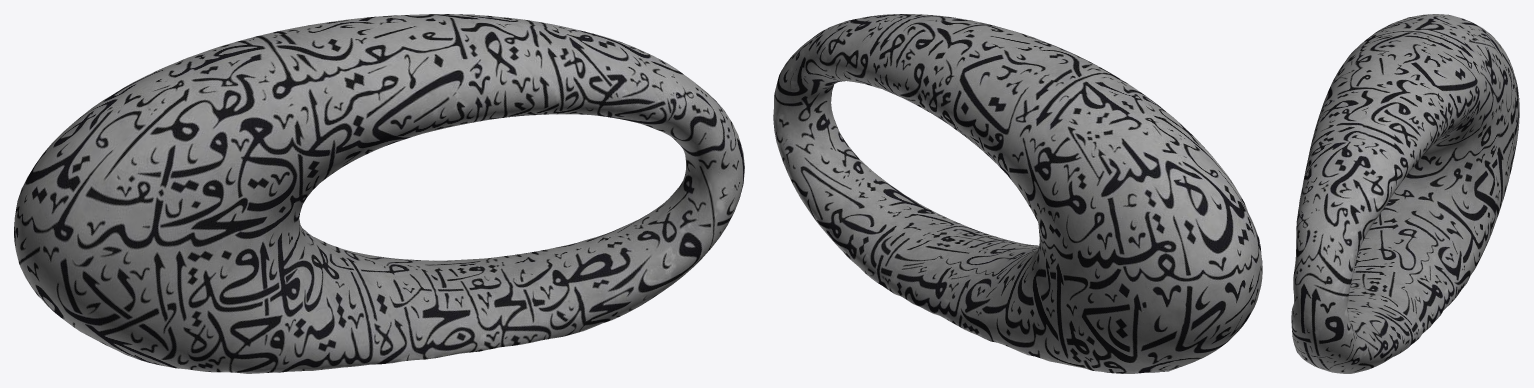
File: museum_of_the_future.glb
The picture shows the model from 3 angles, left to right: view 1: azimuth 30°, elevation 25°; view 2: azimuth 150°, elevation 25°; view 3: azimuth 270°, elevation 25°; orthographic projection. The views are drawn at different scales.
Parts seen in each view (by area): view 1: Object_6; view 2: Object_6; view 3: Object_6.
Part boxes in pixels (x1,y1,x2,y2): Object_6: (14,14,744,373); Object_6: (773,14,1262,373); Object_6: (1291,14,1519,373).
Bounding box in the file's own units: 168 × 76.99 × 68.62.
Materials: 1 (1 with a texture image).
